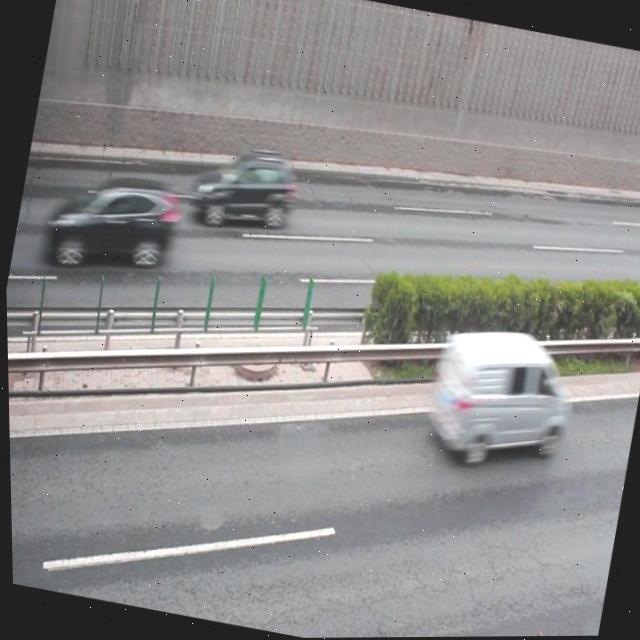car: (51, 162, 183, 281), (184, 138, 303, 241)
truck: (417, 317, 579, 479)
